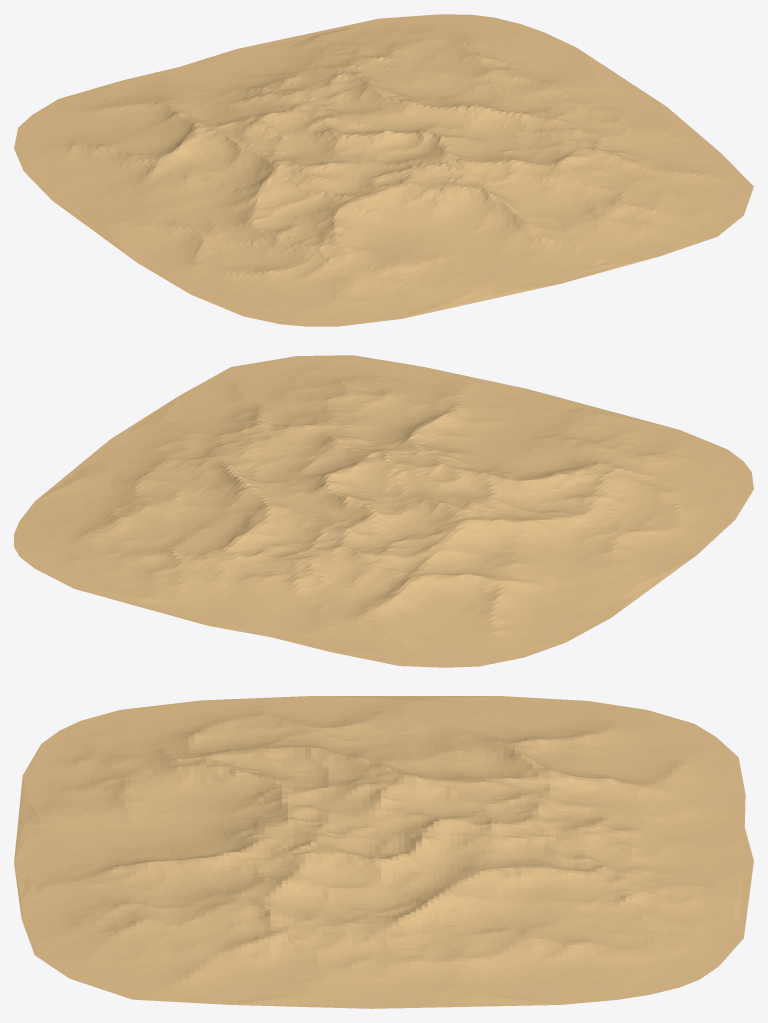
File: MT_Island_H_c_09.fbx
3 renders of one model, top to bottom at view 1: azimuth 30°, elevation 25°; view 2: azimuth 150°, elevation 25°; view 3: azimuth 270°, elevation 25°, orthographic. The views are drawn at different scales.
Parts seen in each view (by area): view 1: MT_Island_H_c_09; view 2: MT_Island_H_c_09; view 3: MT_Island_H_c_09.
Part boxes in pixels (left/top/right/bottom): MT_Island_H_c_09: left=14, top=14, right=753, bottom=326; MT_Island_H_c_09: left=14, top=355, right=753, bottom=667; MT_Island_H_c_09: left=14, top=696, right=753, bottom=1008.
Bounding box in the file's own units: 50000 × 1980 × 50000.
